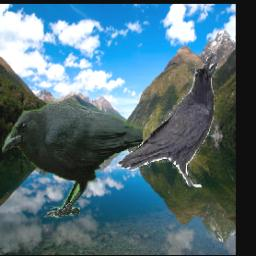Crow: (3, 101, 144, 219), (117, 50, 218, 187)
